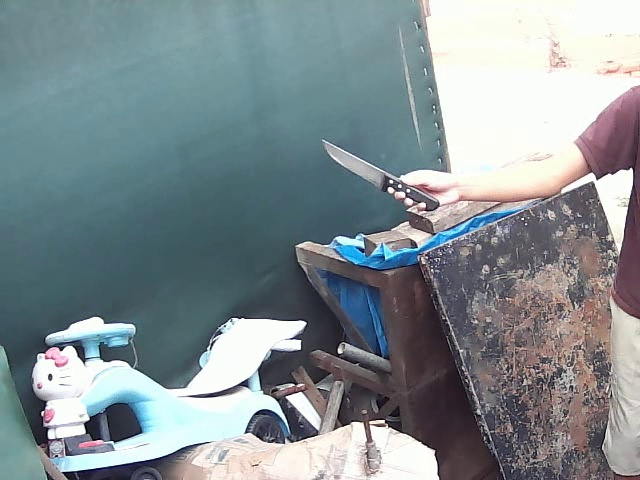cuchillo: (317, 133, 428, 205)
